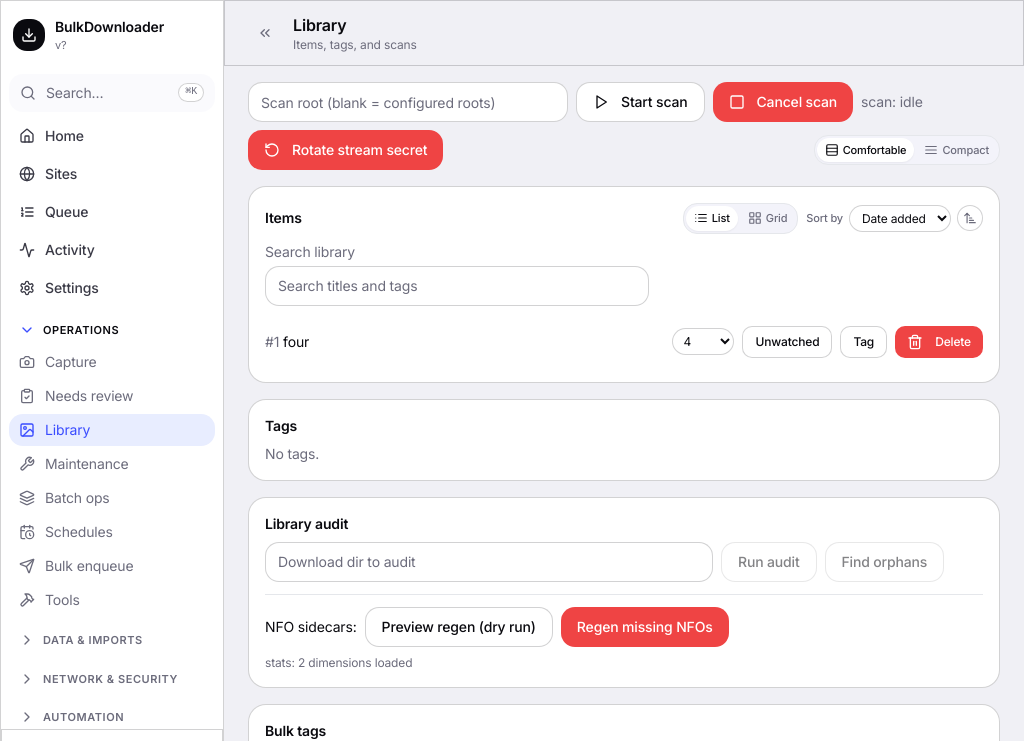
Test case: library-fix F8 the rating select shows the stored rating › the item details dialog shows a stored "4", not none
Click the button "four". click: [296, 342]
box: 283,332 -> 309,352
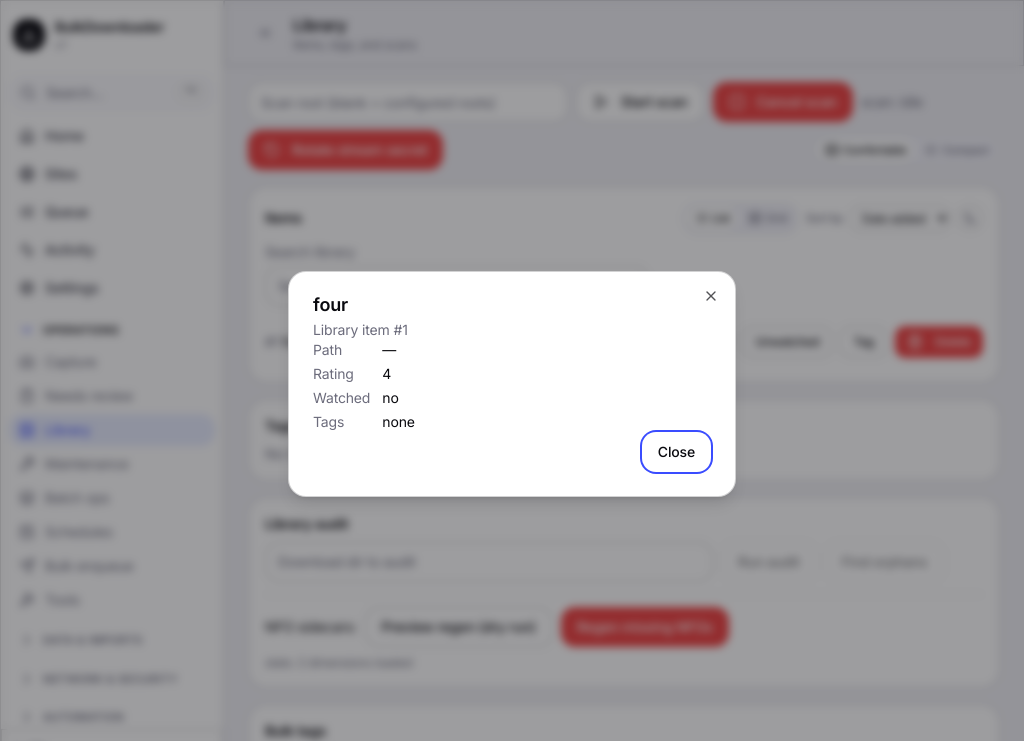
Check: the text "4" is shown, box 382,365 -> 391,382
